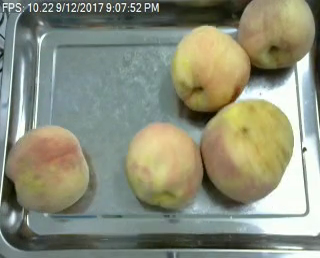Peach: (202, 99, 293, 200), (8, 124, 91, 213), (170, 24, 250, 112), (125, 122, 202, 208), (237, 0, 315, 70)
